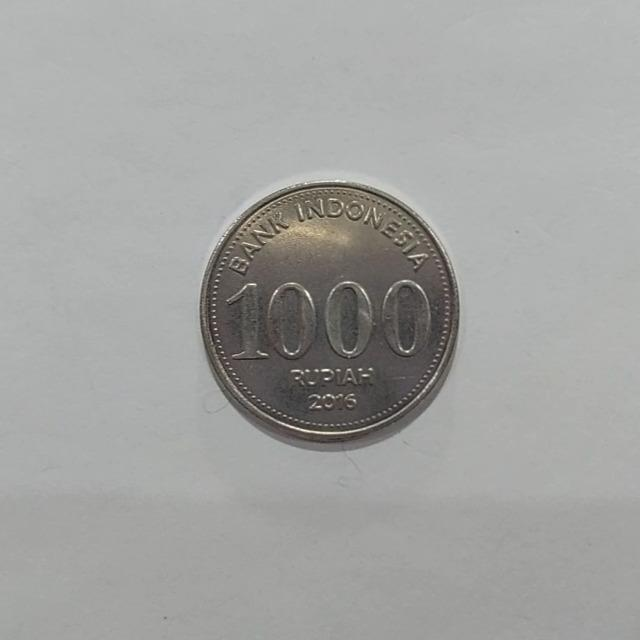Rp100: (197, 177, 461, 451)
